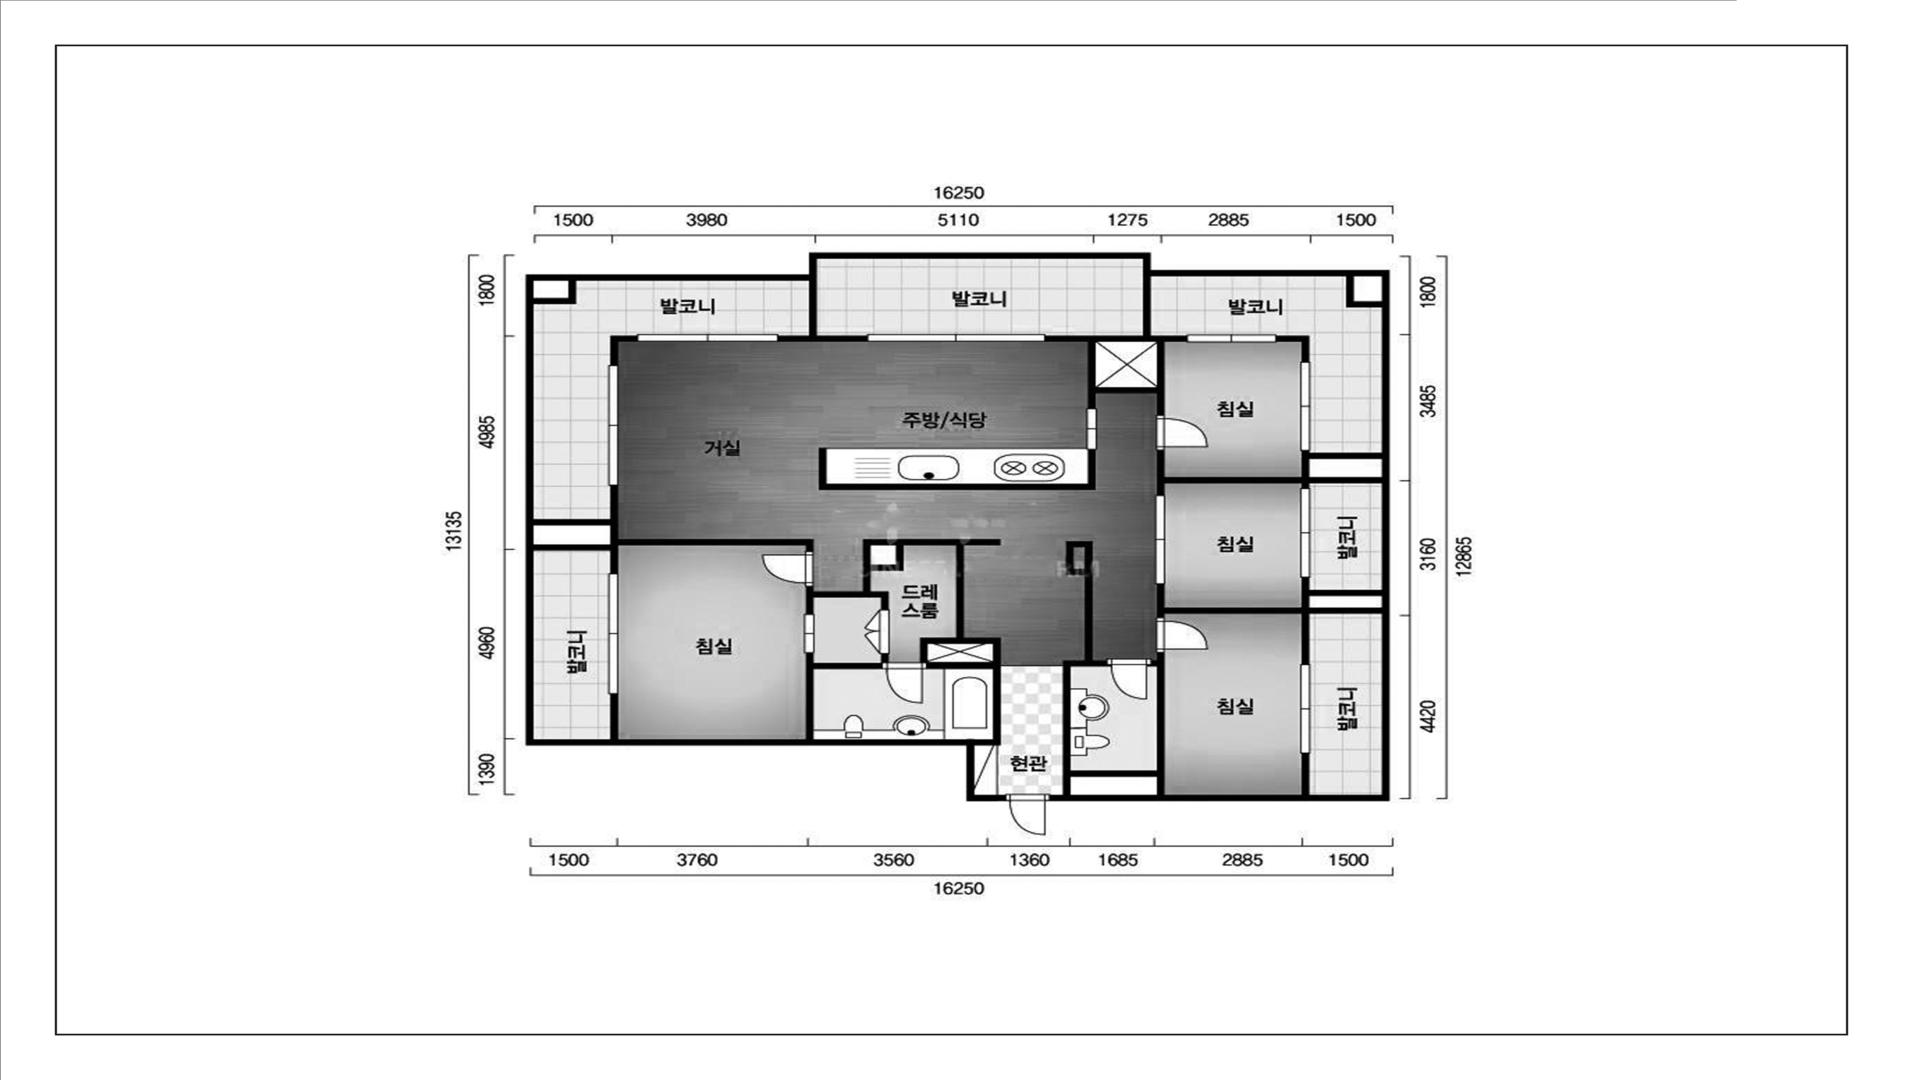background: (0, 0, 1920, 1080)
door: (882, 662, 927, 704), (1005, 794, 1050, 836), (1106, 658, 1151, 700), (1155, 617, 1208, 653), (761, 551, 814, 587), (1155, 415, 1208, 450), (864, 609, 890, 654), (1155, 495, 1164, 584), (1087, 409, 1097, 450), (803, 615, 814, 653)
wall: (526, 253, 1390, 802), (806, 539, 1001, 745), (1063, 541, 1164, 795), (533, 485, 814, 574), (1046, 276, 1187, 415), (1156, 578, 1382, 665), (819, 448, 1096, 491), (1156, 450, 1383, 496), (806, 653, 882, 740), (778, 280, 868, 342), (1096, 342, 1158, 388), (1346, 276, 1382, 307), (533, 281, 576, 303), (1276, 335, 1309, 363), (611, 336, 637, 365), (611, 695, 618, 740), (1302, 753, 1309, 795), (881, 654, 889, 662)
window: (866, 334, 1046, 342), (608, 574, 618, 695), (608, 365, 618, 485), (637, 334, 778, 342), (1300, 665, 1311, 753), (1187, 334, 1276, 343), (1300, 489, 1309, 578), (1300, 363, 1309, 451)
